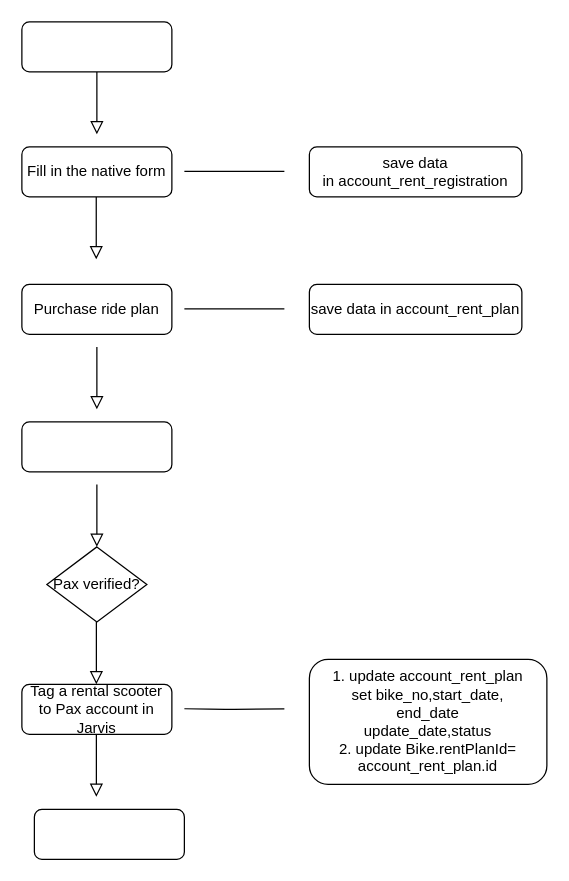
This 569x881 diagram has some shape labels left out. The shapes that lost their labels are listed below. From the top down, each one's centre as x and y in pixels, then its label:
point 96,46: Choose ride/rental plan
point 96,446: Verify in Jarvis for new rental
point 108,833: Arrange for delivery to Pax
